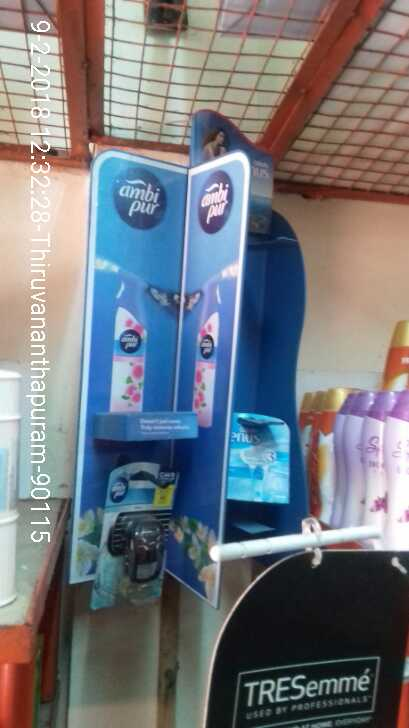beauty: (228, 411, 294, 504)
home: (92, 466, 180, 607)
